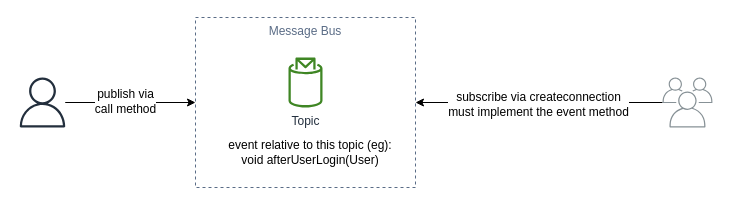
Some shapes in this 733 by 205 pixel diagram are drawn without their labels. Each missing label, with the centre of its shape:
Publisher: point 42,102
Subscriber: point 687,102
